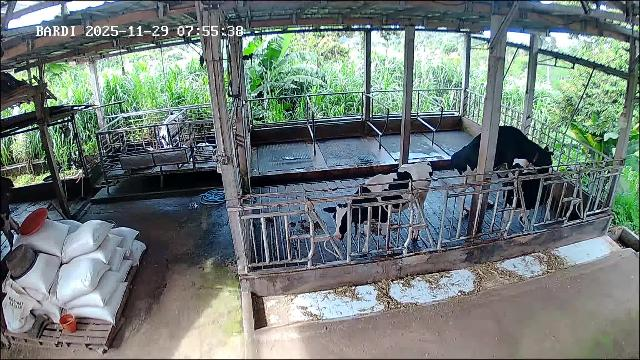mounting: (451, 125, 554, 210)
